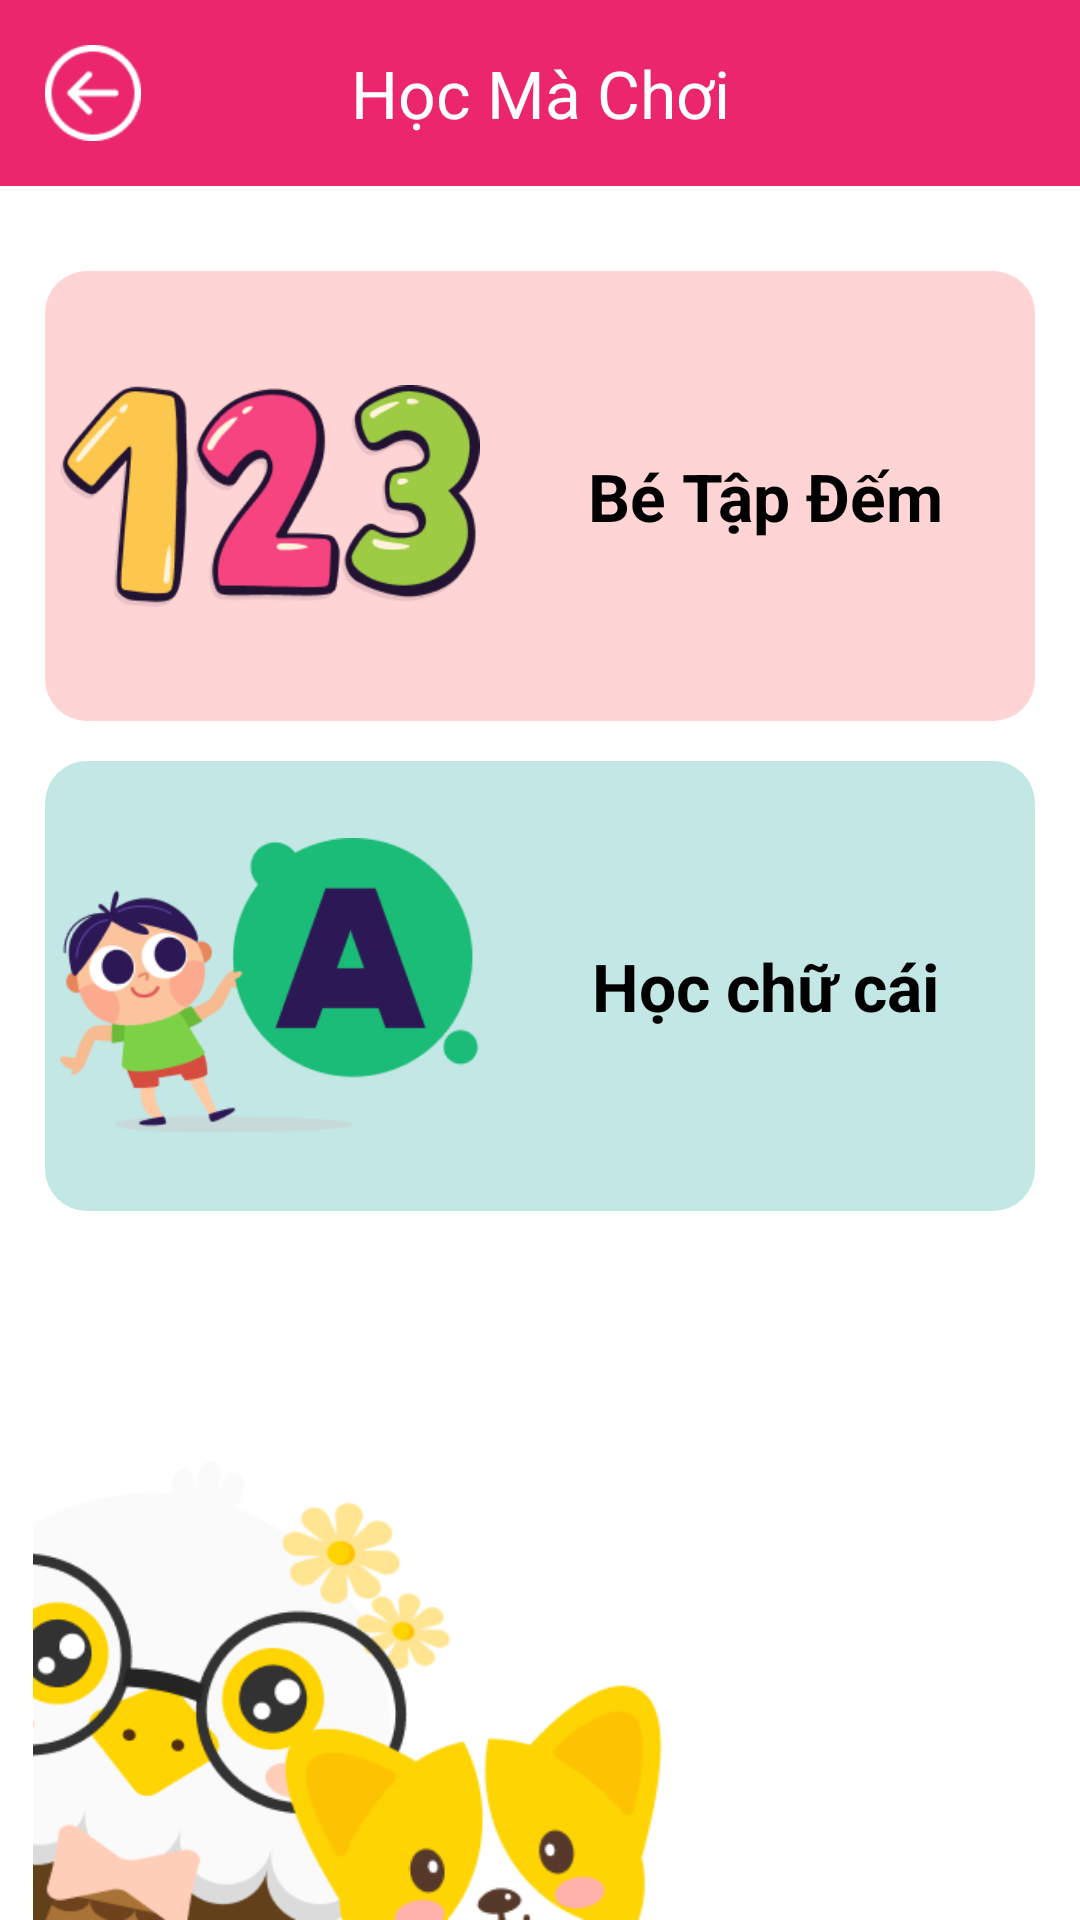

Point at icon controls on the screen. Image size 1080 × 1920, points as (x=x, y=y).
back: (x=93, y=93)
